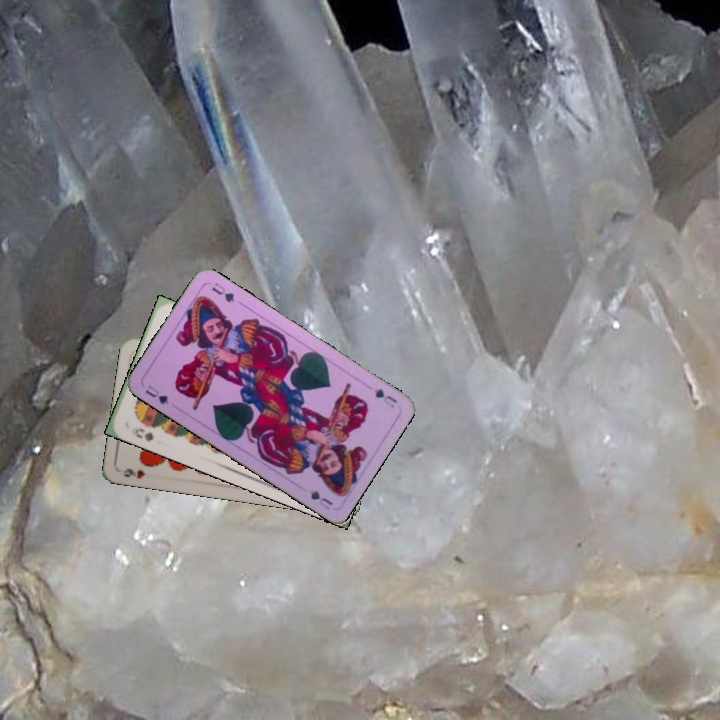GU: (141, 381, 171, 407), (370, 384, 400, 410)
H9: (120, 464, 148, 481)
S8: (127, 422, 156, 444)
